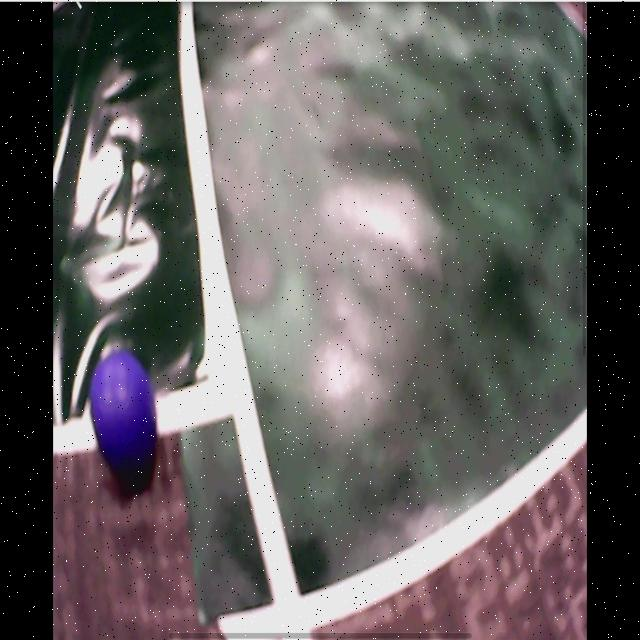ball: (91, 351, 159, 472)
